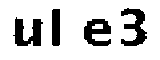3: (119, 2, 147, 49)
e: (79, 15, 113, 49)
l: (46, 5, 68, 53)
u: (11, 14, 42, 52)
